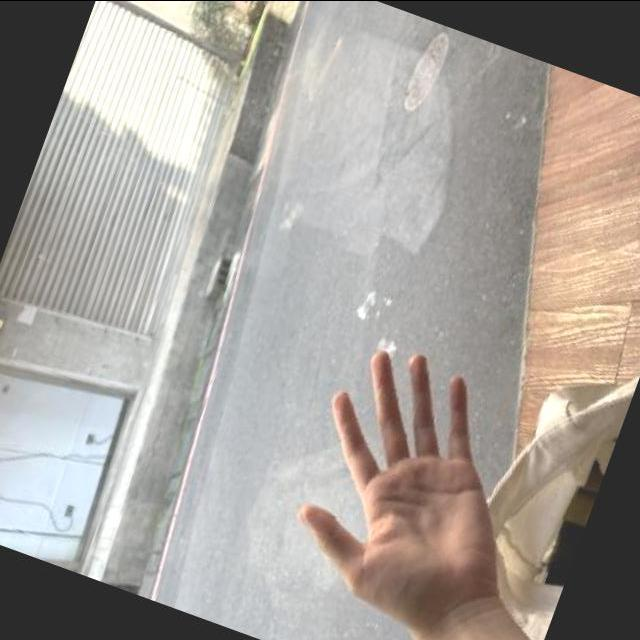hand: (247, 315, 576, 640)
